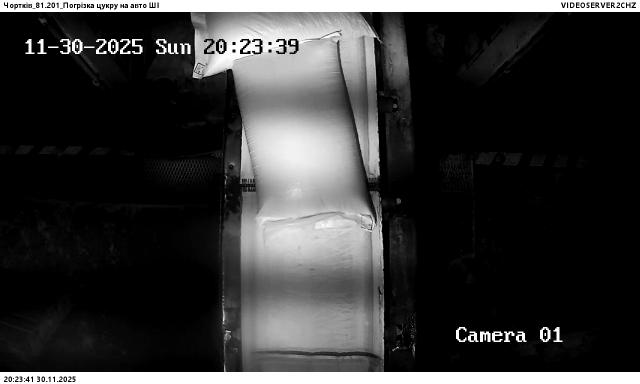bag: (231, 33, 377, 231), (194, 11, 382, 77)
